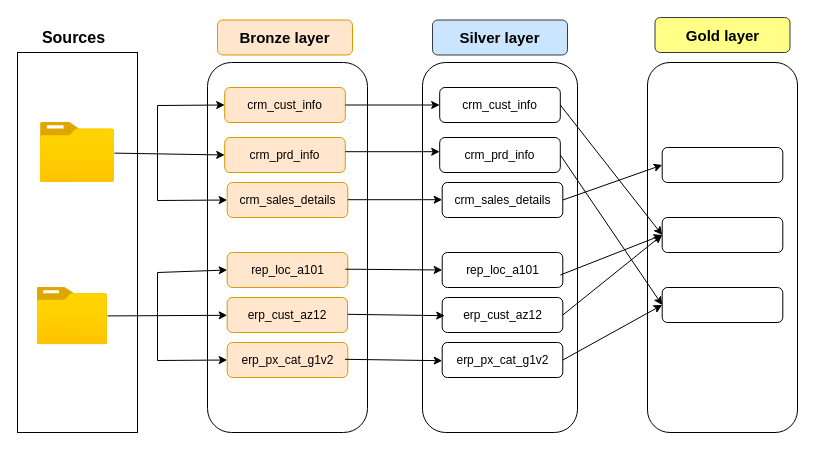
Some shapes in this 815 by 450 pixel diagram are drawn without their labels. Each missing label, with the centre of its shape:
CRM: point 77,152
dim_customers: point 722,234
dim_products: point 722,304
ERP: point 71,315
fact_sales: point 722,164
